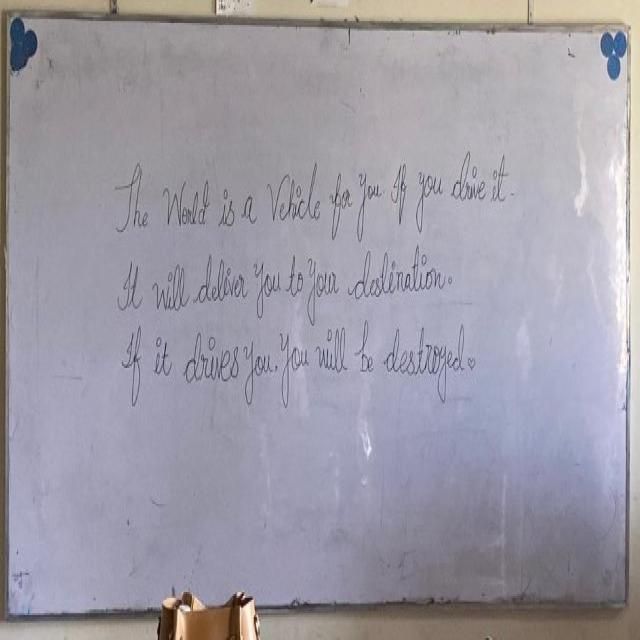White-board: (8, 15, 630, 607)
